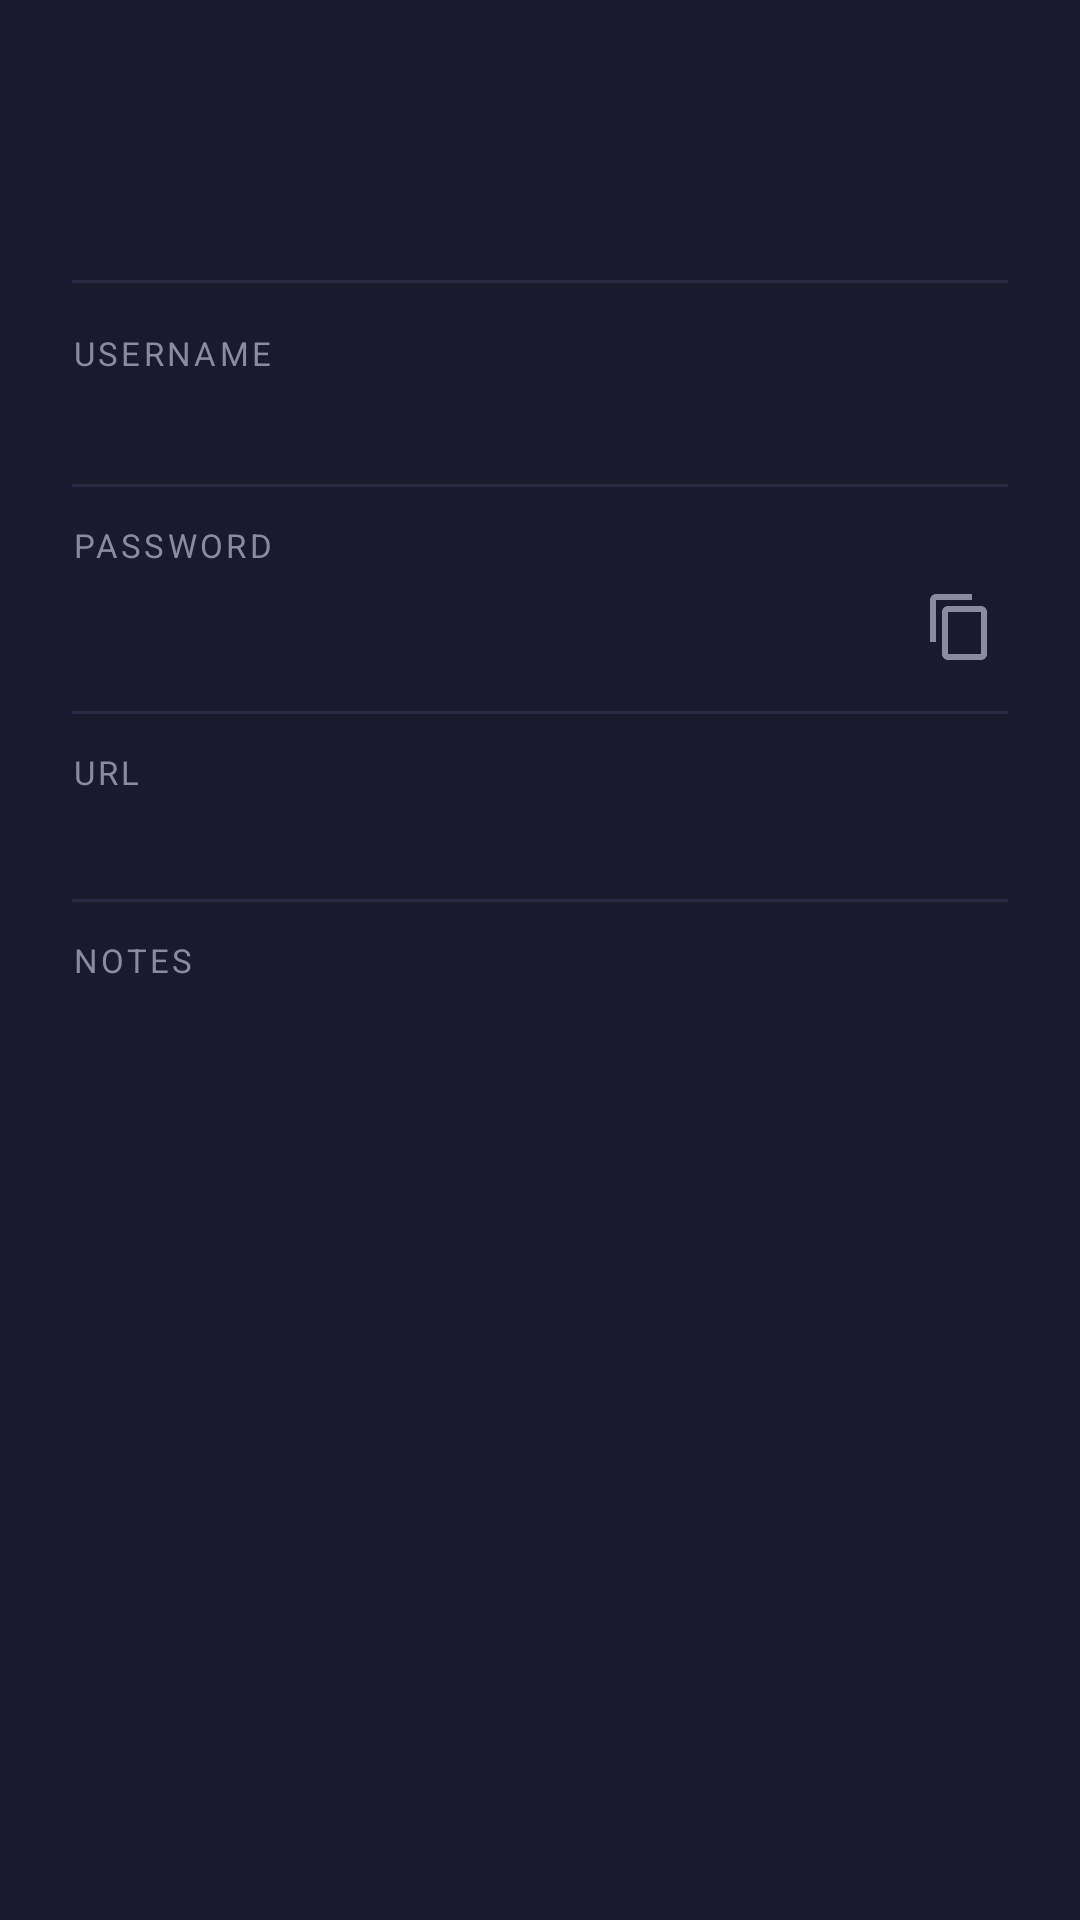

Icons on this 1080px×1920px Android screen, each with its box as {"x1": x1, "y1": y1, "x2": x2, "y2": y2}:
Copy password: {"x1": 930, "y1": 594, "x2": 987, "y2": 660}
